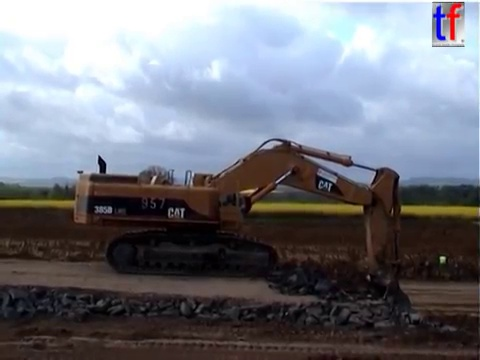excavator: (71, 134, 415, 332)
